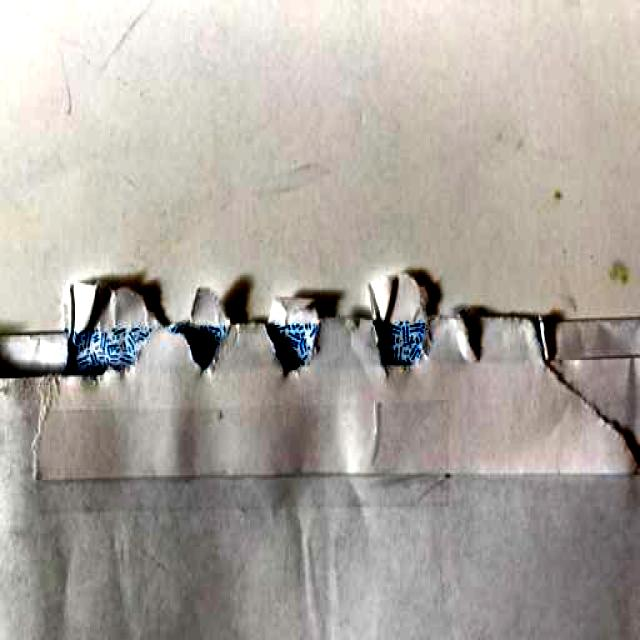Paper: (0, 278, 640, 640)
